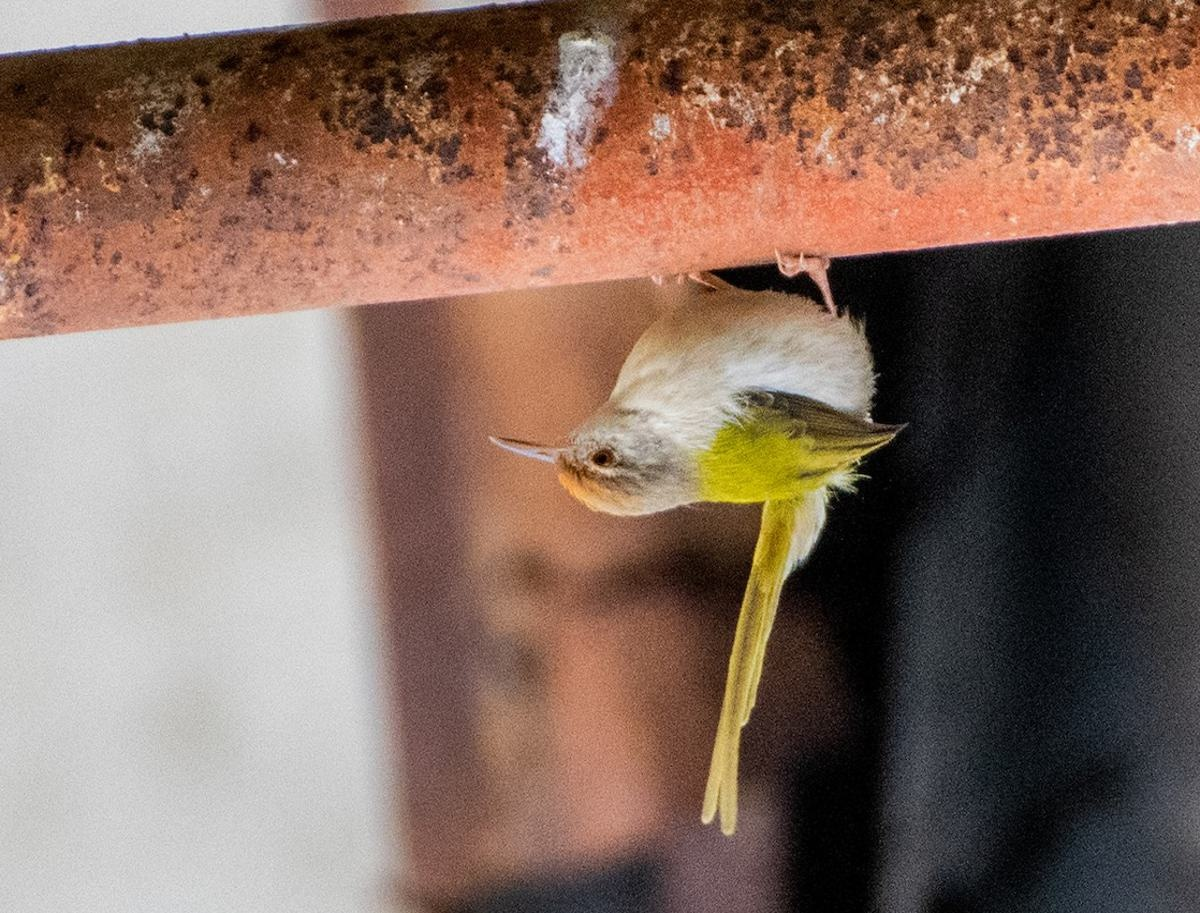tailorbird: (520, 239, 957, 821)
